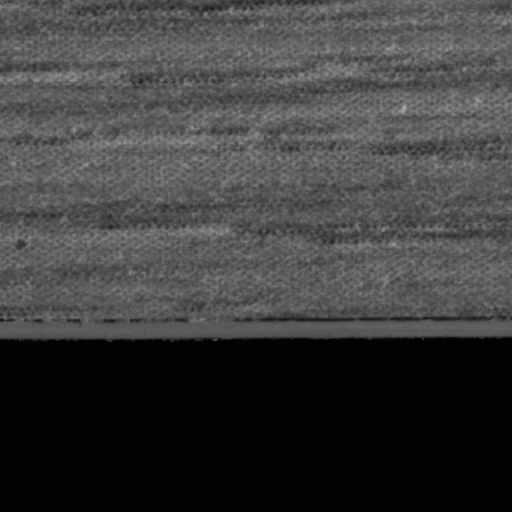jiaofeng: (241, 313, 511, 335)
